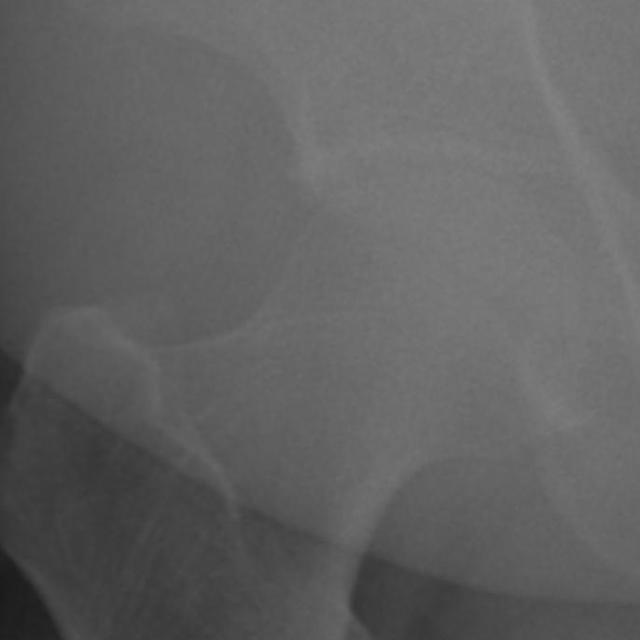Fitted_femural_head: (302, 173, 432, 302)
